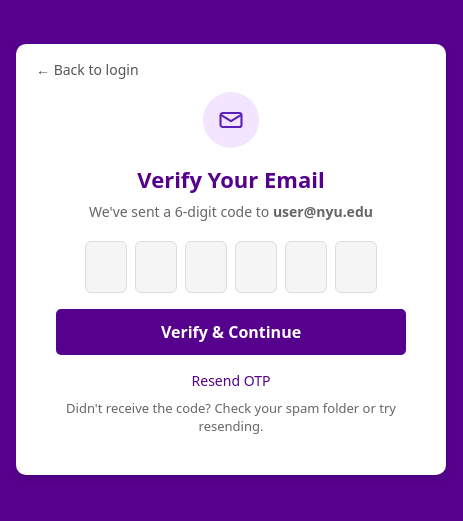
Test: VerifyEmail page › resends OTP and shows success message
Click the button "Resend OTP". click: (231, 380)
box: top-left (192, 370), bottom-right (270, 390)
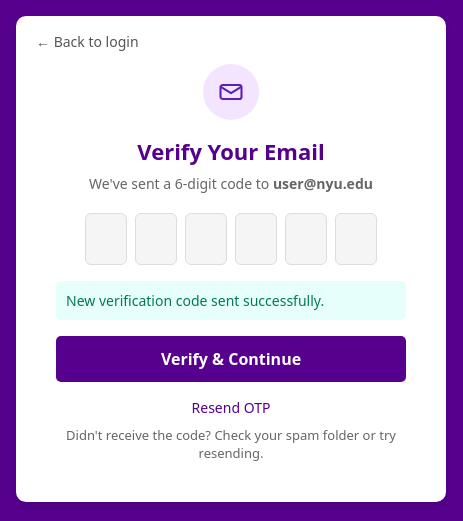
Now the text "New verification code sent successfully." is shown, box top-left (56, 281), bottom-right (406, 320)
